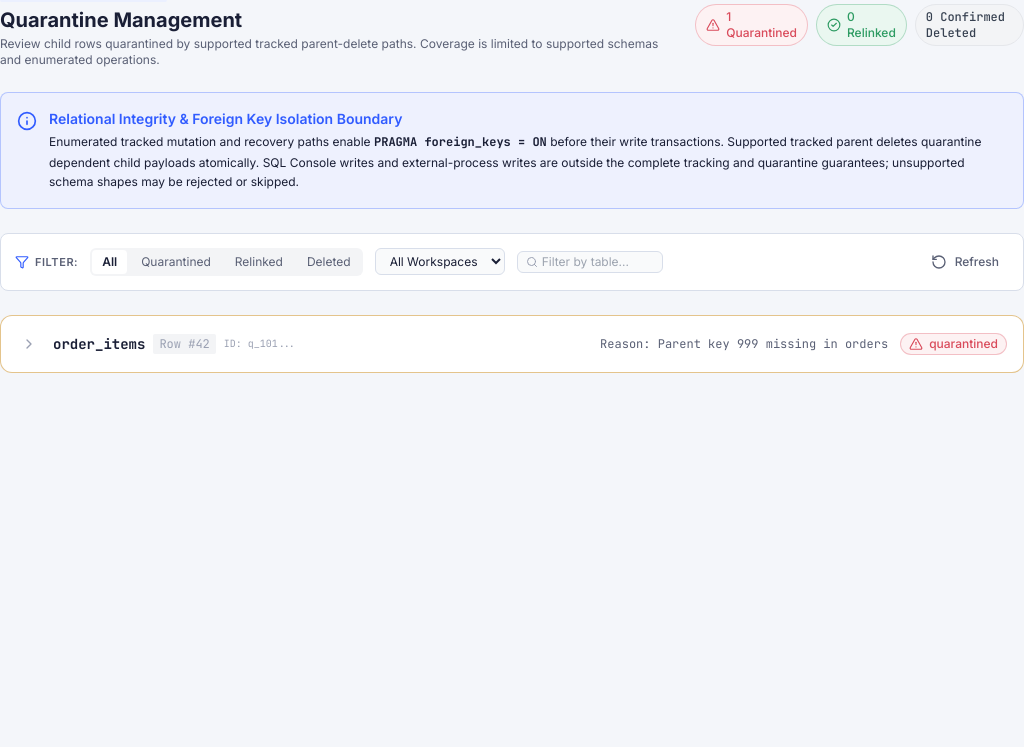
Phase 7 Integration Tests › Quarantine View Tests › rejects and displays clear error when relink response status mismatches
Step 1. Click the text "order_items" → (99, 344), box [53,334,145,354]
(page scrolled)
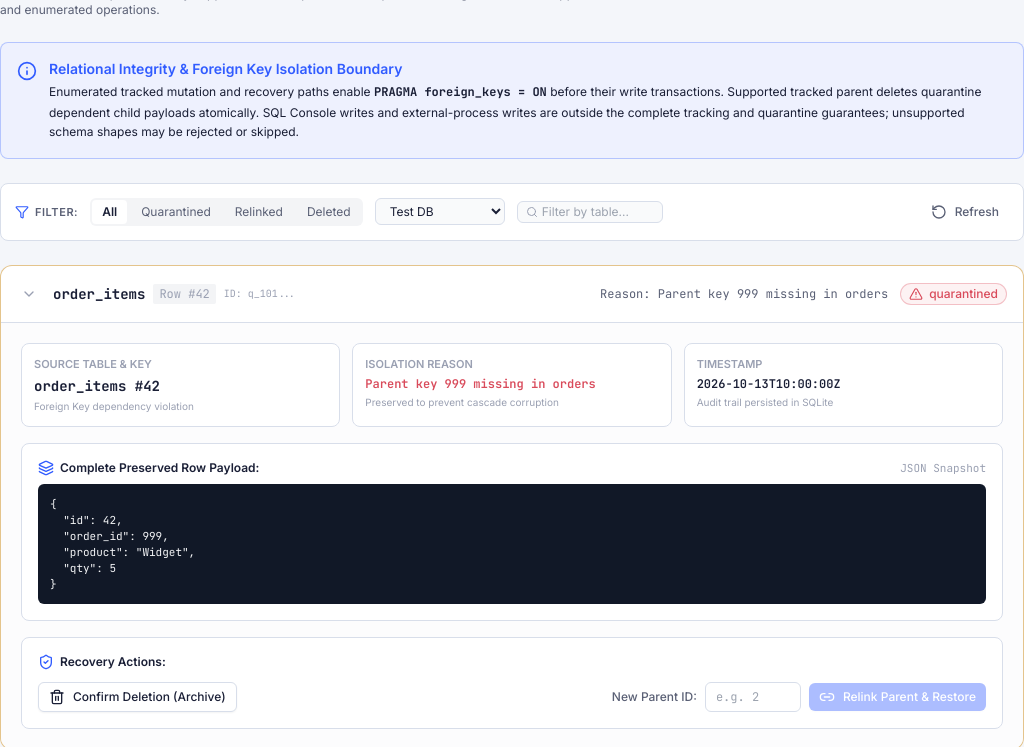
Expected: the field with placeholder "e.g. 2" is shown
Step 2. Type "2" into the field with placeholder "e.g. 2" → (753, 697), box [705,682,801,712]
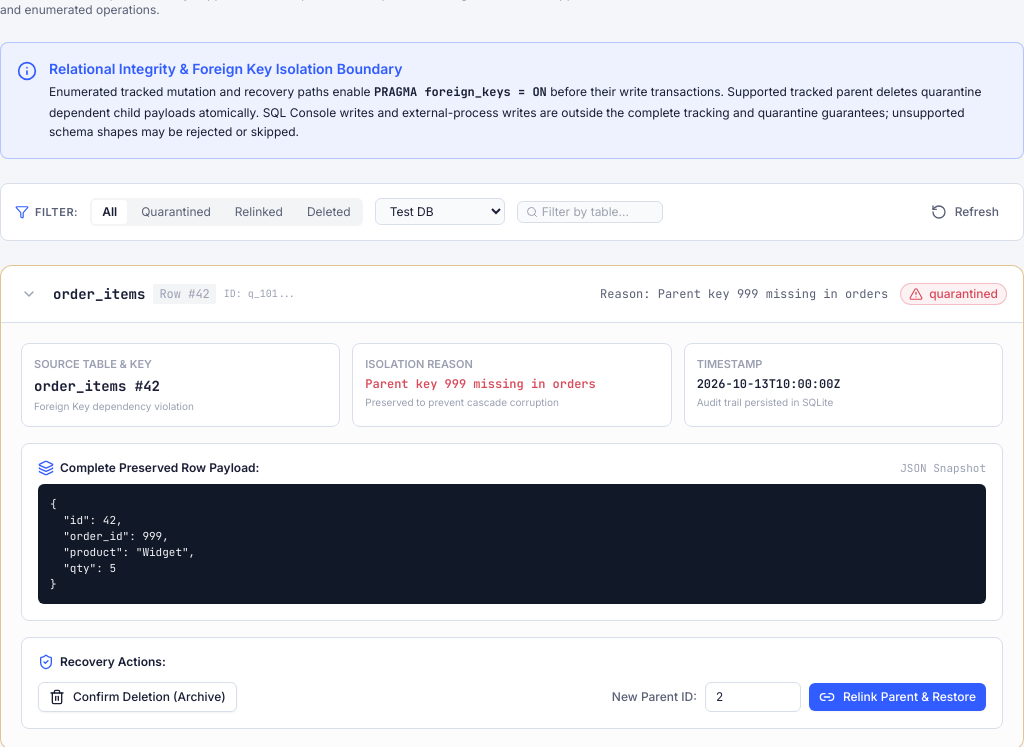
Step 3. Click the button "Relink Parent & Restore" → (897, 697), box [809,683,986,711]
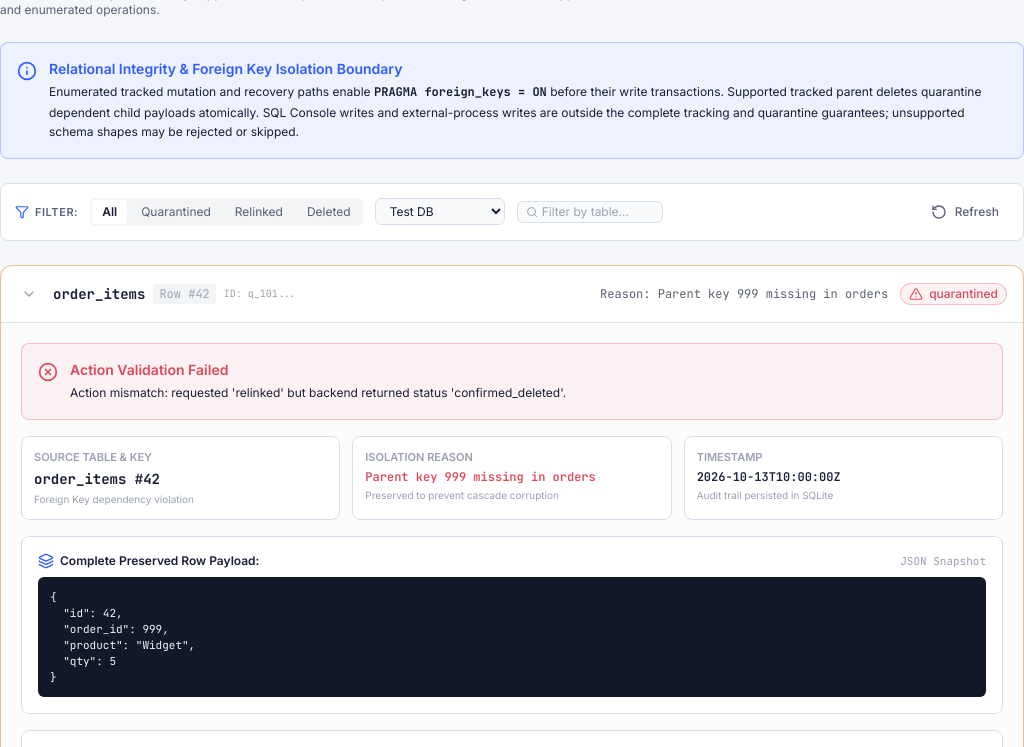
Expected: the text "Action mismatch: requested 'relinked' but backend returned status 'confirmed_deleted'" is shown, [70,385,566,400]
